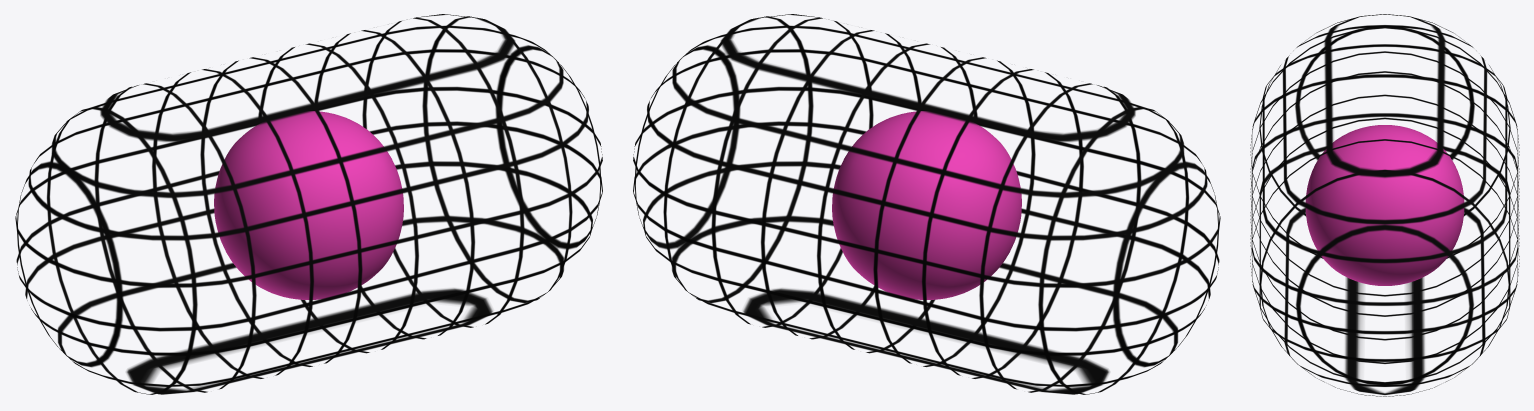
The model's file is block_clear.glb.
3 renders of one model, left to right at view 1: azimuth 30°, elevation 25°; view 2: azimuth 150°, elevation 25°; view 3: azimuth 270°, elevation 25°, orthographic. The views are drawn at different scales.
Visible parts, largest first — view 1: Sphere, Cube; view 2: Sphere, Cube; view 3: Sphere, Cube.
Boxes of the visible parts, bbox=[...] form: Sphere: bbox=[15, 14, 602, 394]; Cube: bbox=[214, 111, 403, 299]; Sphere: bbox=[633, 14, 1220, 394]; Cube: bbox=[832, 111, 1021, 299]; Sphere: bbox=[1250, 14, 1519, 396]; Cube: bbox=[1305, 125, 1464, 285].
Bounding box in the file's own units: 2 × 1 × 1.
2 materials, 1 textured.
